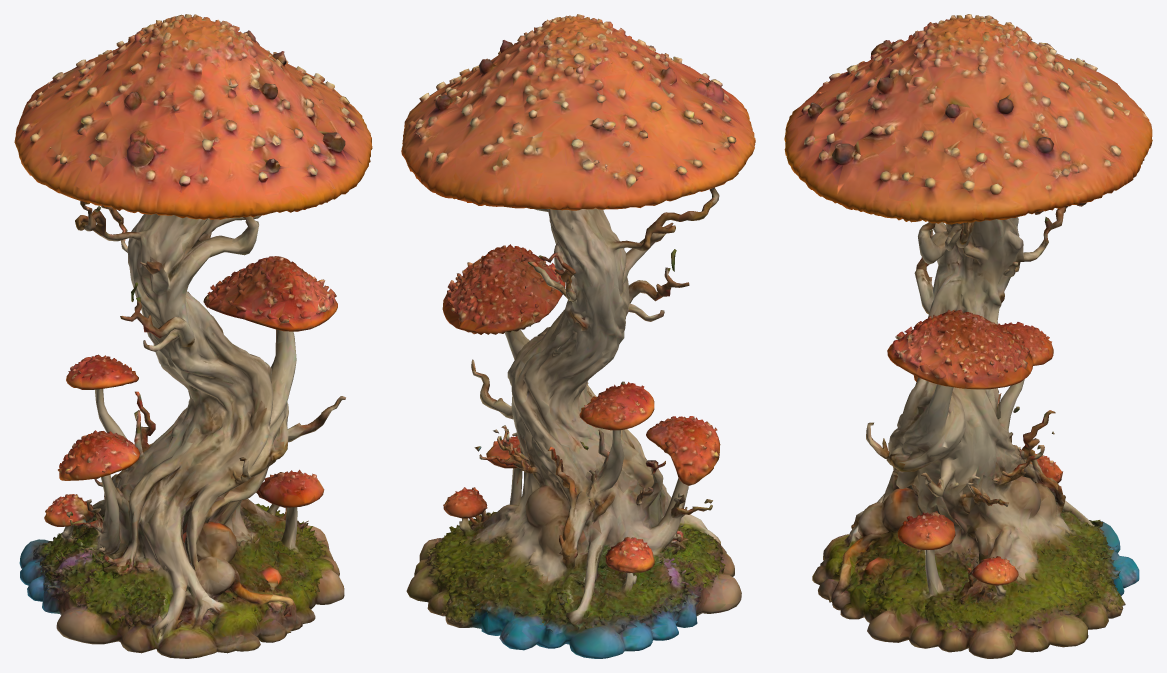
The model's file is High_detail_fantasy_.glb.
3 views of the same model, side by side, from view 1: azimuth 30°, elevation 25°; view 2: azimuth 150°, elevation 25°; view 3: azimuth 270°, elevation 25° (orthographic).
Visible parts, largest first — view 1: High_detail_fantasy_; view 2: High_detail_fantasy_; view 3: High_detail_fantasy_.
Part boxes in pixels (x1,y1,x2,y2): High_detail_fantasy_: (14, 14, 372, 658); High_detail_fantasy_: (401, 14, 755, 658); High_detail_fantasy_: (784, 14, 1152, 658).
Bounding box in the file's own units: 1.1 × 1.9 × 1.12.
Materials: 1 (1 with a texture image).
